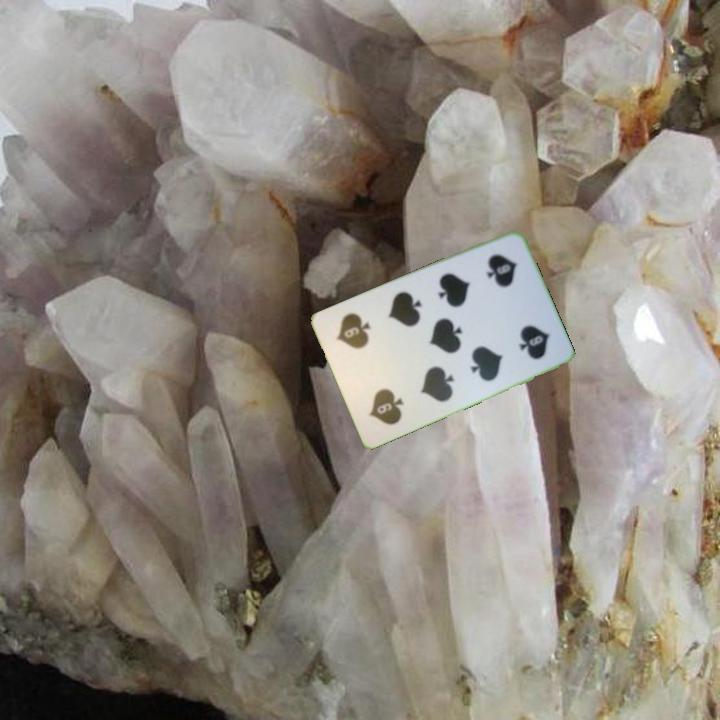s_9.png: (462, 238, 540, 321), (345, 355, 423, 438)
